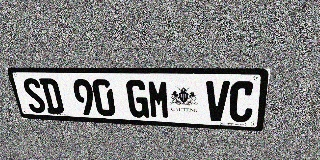0: (91, 79, 116, 116)
9: (71, 79, 97, 116)
C: (228, 81, 256, 123)
D: (39, 78, 65, 114)
G: (125, 80, 149, 118)
M: (147, 80, 170, 119)
S: (21, 78, 47, 113)
V: (205, 81, 230, 122)
